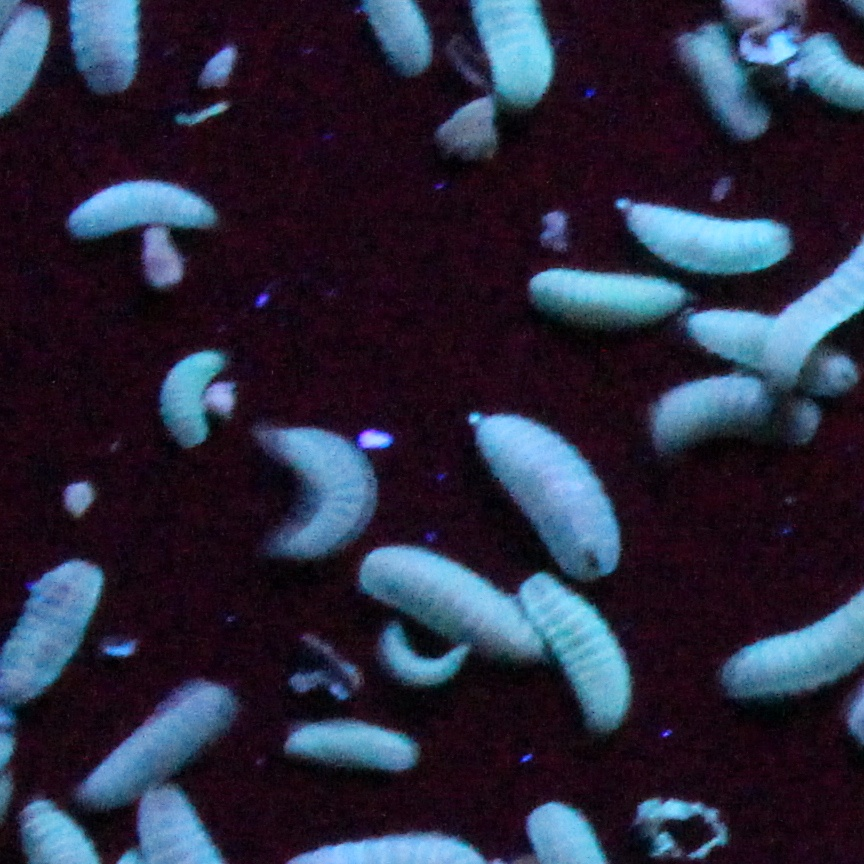larve: (463, 406, 624, 582), (354, 545, 540, 651), (87, 674, 238, 802), (528, 580, 636, 739), (258, 421, 373, 564), (683, 312, 854, 382), (71, 178, 224, 247), (636, 212, 795, 276), (679, 17, 761, 139), (526, 266, 681, 323), (652, 382, 763, 455), (160, 343, 232, 451), (285, 721, 424, 772)
